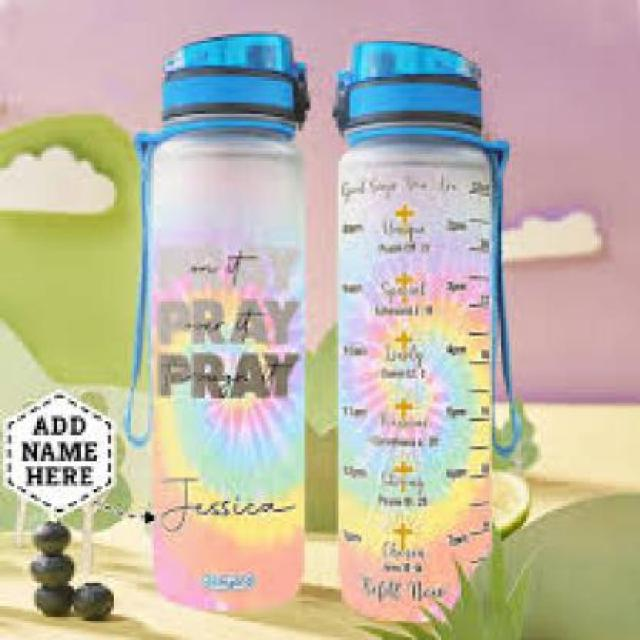Drinking: (330, 8, 527, 634), (125, 25, 310, 618)
